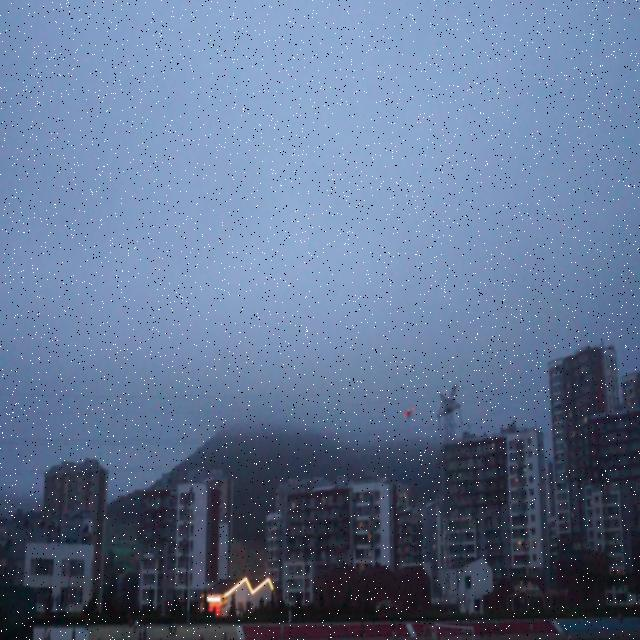UAV: (403, 407, 415, 420)
